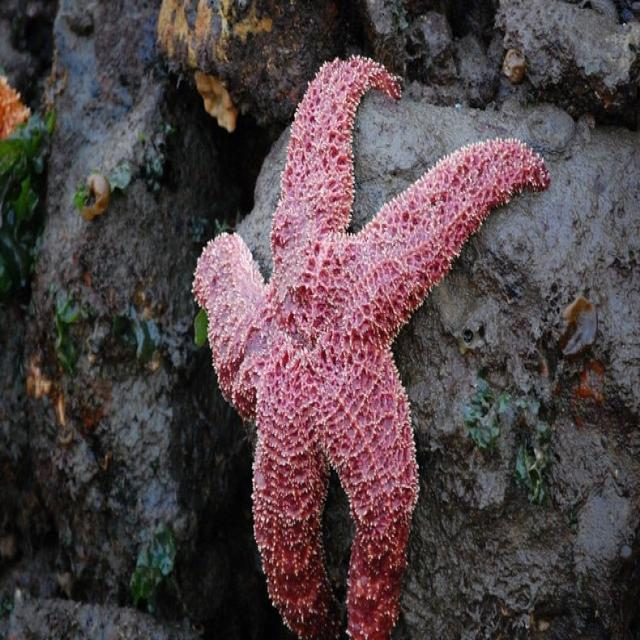starfish: (194, 55, 549, 639)
